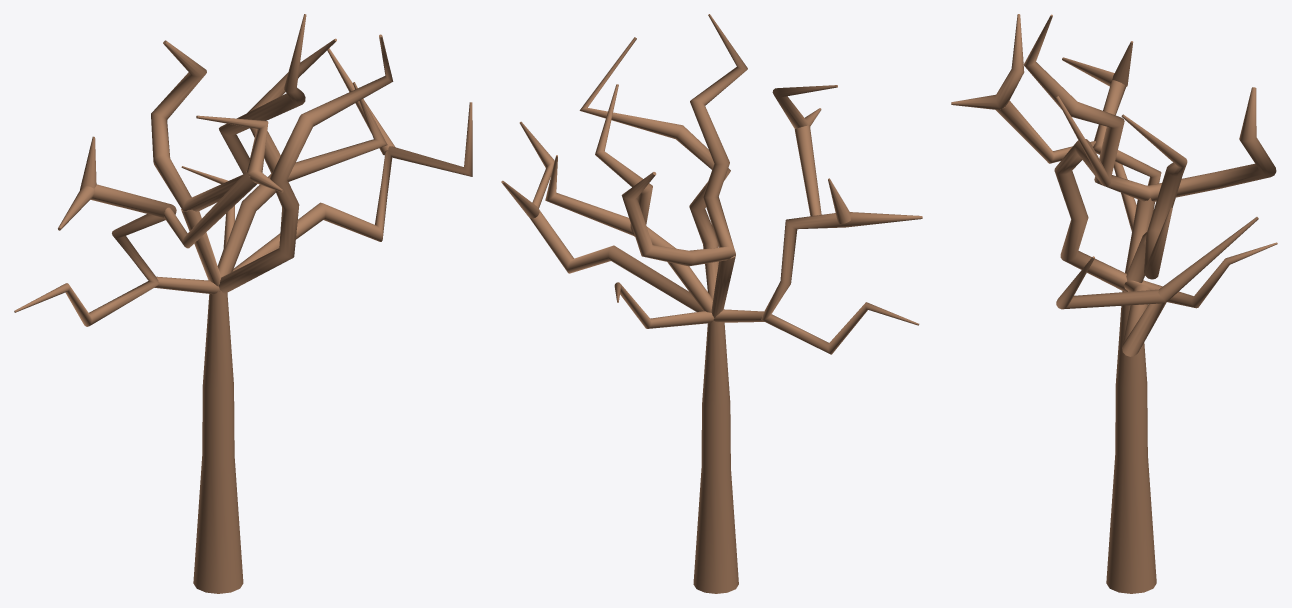
The model's file is tree2.fbx.
The picture shows the model from 3 angles, left to right: view 1: azimuth 30°, elevation 25°; view 2: azimuth 150°, elevation 25°; view 3: azimuth 270°, elevation 25°; orthographic projection. The views are drawn at different scales.
Visible parts, largest first — view 1: Cube; view 2: Cube; view 3: Cube.
Boxes of the visible parts, x1=… form: Cube: x1=14, y1=14, x2=472, y2=593; Cube: x1=501, y1=14, x2=922, y2=593; Cube: x1=951, y1=14, x2=1277, y2=593.
Bounding box in the file's own units: 399 × 499 × 250.
